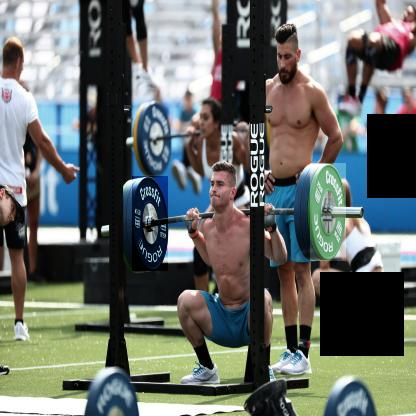barbell: (311, 164, 347, 262), (133, 177, 169, 272)
